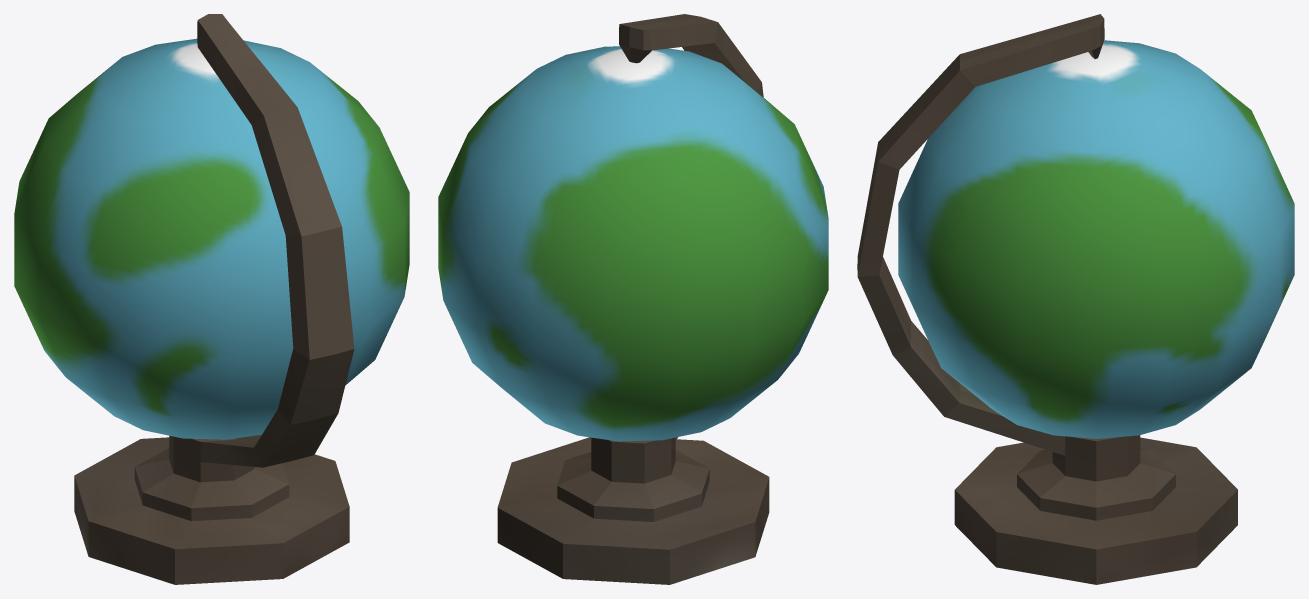
File: Globe.fbx
3 renders of one model, left to right at view 1: azimuth 30°, elevation 25°; view 2: azimuth 150°, elevation 25°; view 3: azimuth 270°, elevation 25°, orthographic.
Parts seen in each view (by area): view 1: Globe; view 2: Globe; view 3: Globe.
Part boxes in pixels (left/top/right/bottom): Globe: left=14, top=14, right=409, bottom=584; Globe: left=438, top=14, right=828, bottom=584; Globe: left=857, top=14, right=1294, bottom=584.
Size of the model in its own units: 20.27 by 18.37 by 26.01.
